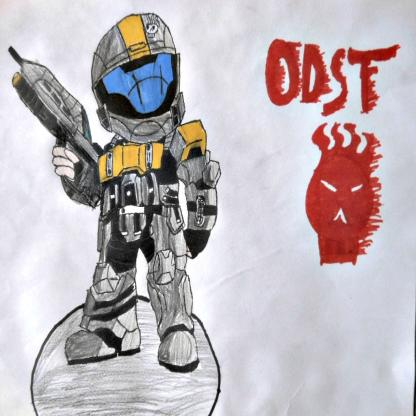Helmet: (80, 13, 180, 143)
